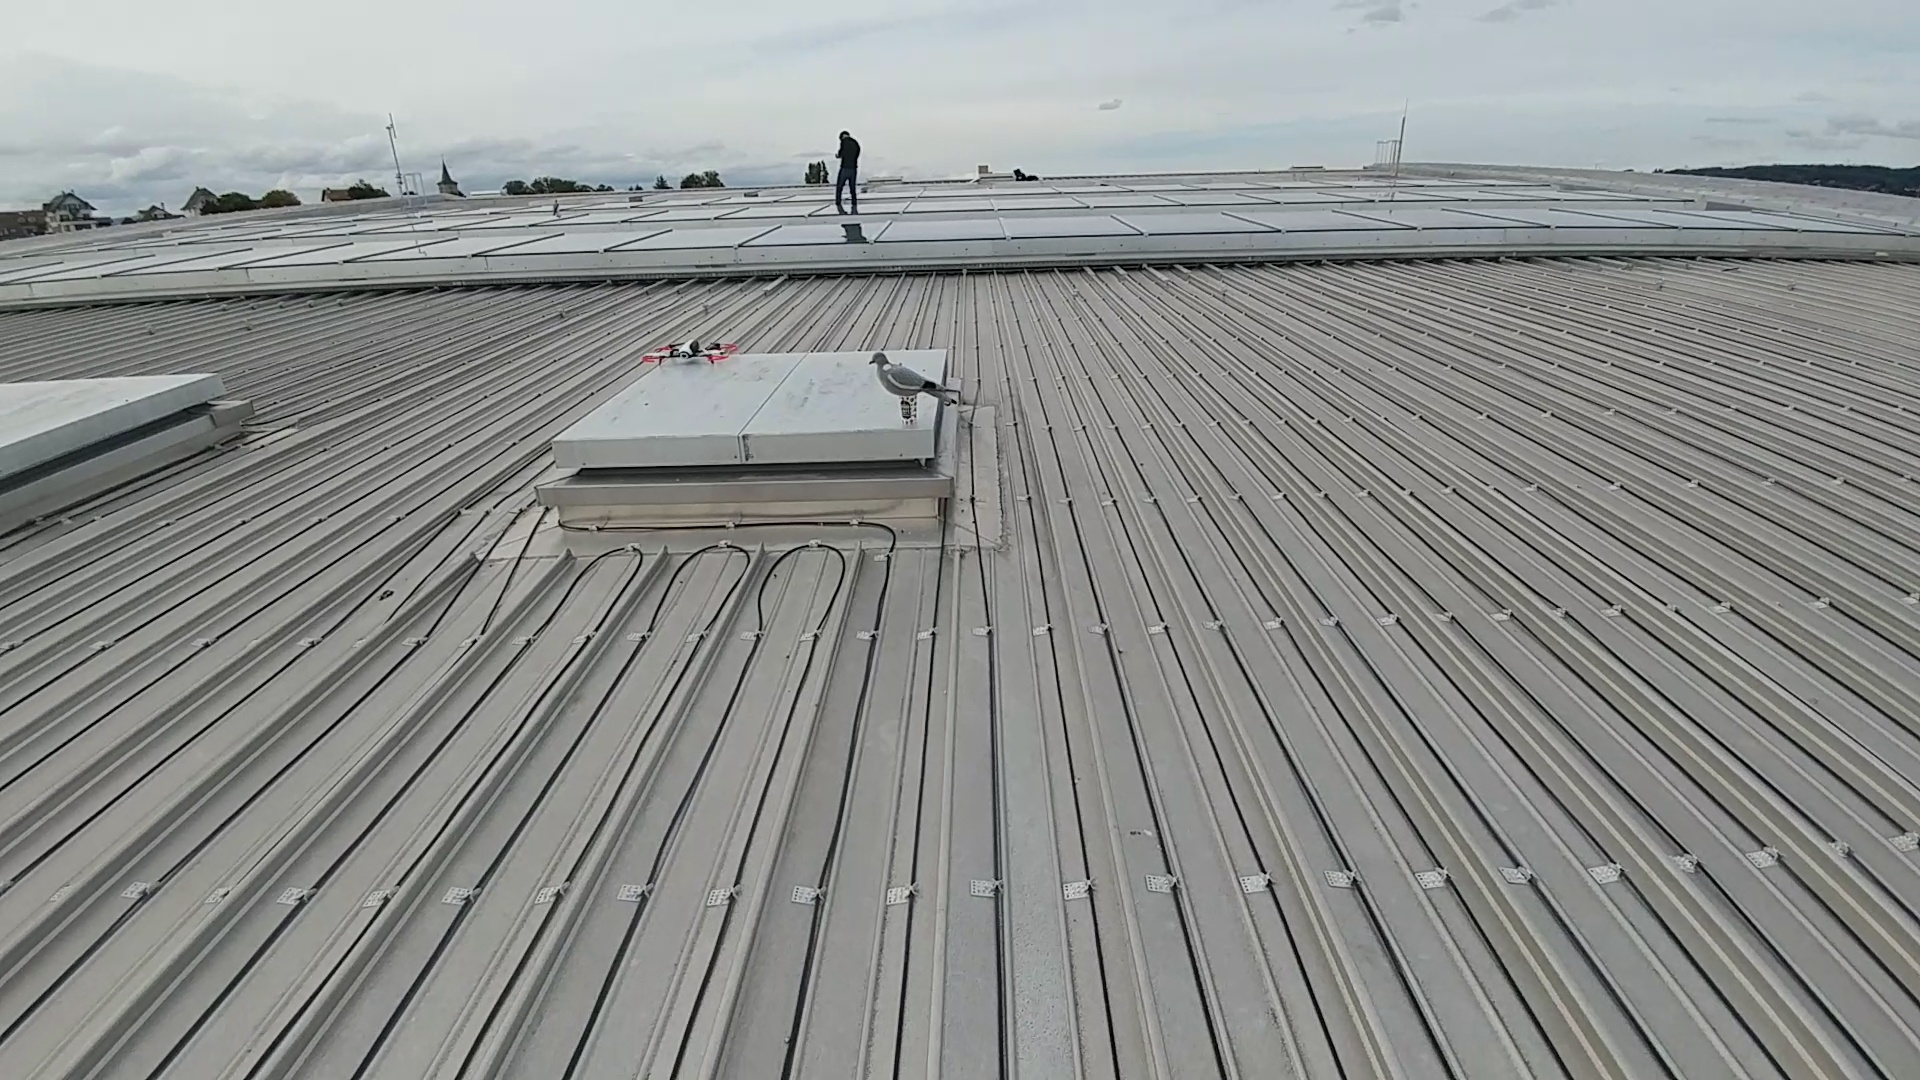Pigeon: (864, 349, 976, 400)
